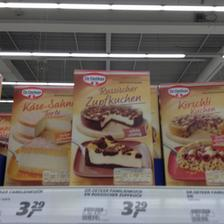Kuchen: (72, 68, 156, 186), (2, 82, 72, 188), (157, 80, 223, 186)
